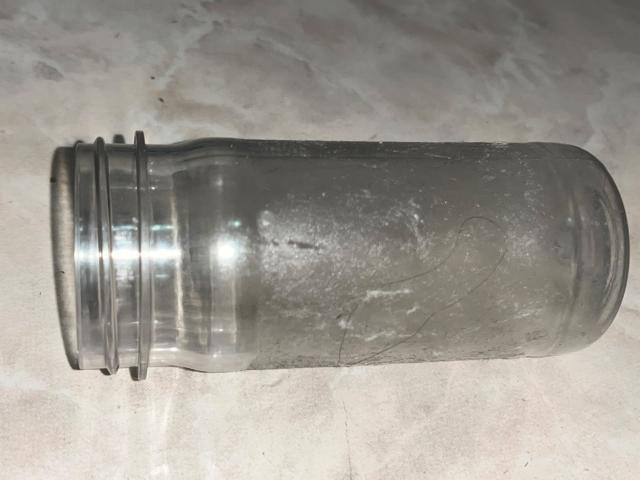PET: (46, 105, 623, 409)
